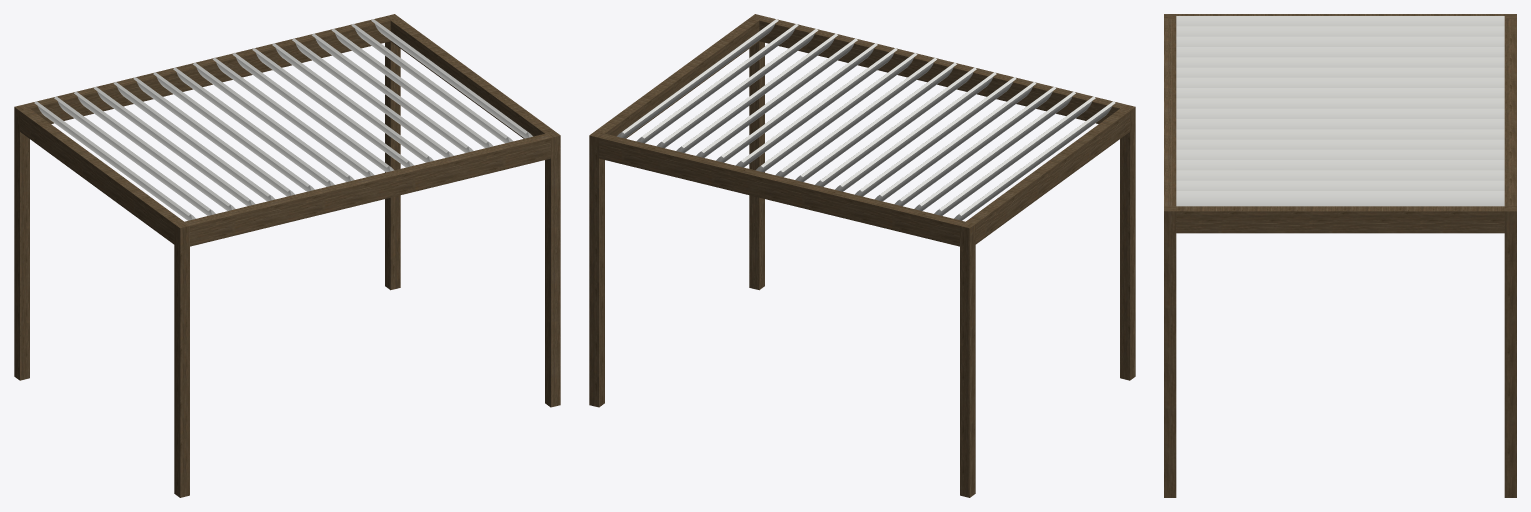
The model's file is psr_dokuritu-2k9s_brownebony.fbx.
3 views of the same model, side by side, from view 1: azimuth 30°, elevation 25°; view 2: azimuth 150°, elevation 25°; view 3: azimuth 270°, elevation 25° (orthographic). The views are drawn at different scales.
Parts seen in each view (by area): view 1: psr_dokuritu-2k9s_brownebony; view 2: psr_dokuritu-2k9s_brownebony; view 3: psr_dokuritu-2k9s_brownebony.
Part boxes in pixels (x1,y1,x2,y2): psr_dokuritu-2k9s_brownebony: (14, 14, 560, 497); psr_dokuritu-2k9s_brownebony: (589, 14, 1135, 497); psr_dokuritu-2k9s_brownebony: (1164, 14, 1516, 497).
Size of the model in its own units: 384 by 266 by 290.
2 materials, 1 textured.
